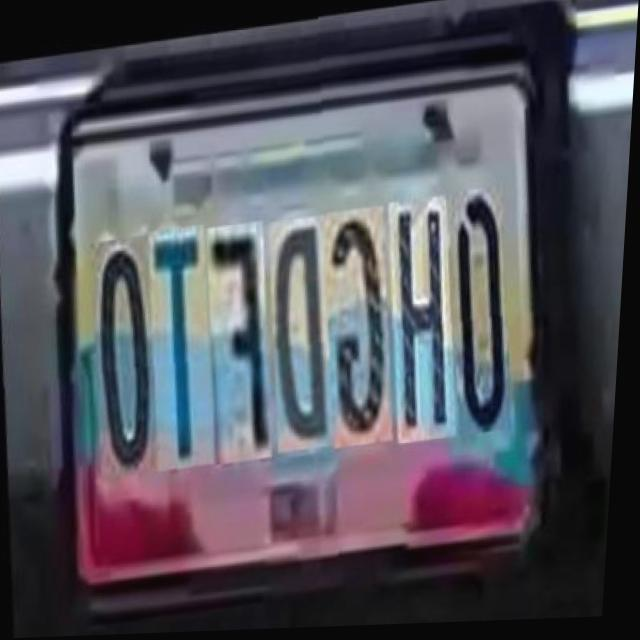0: (437, 187, 520, 437)
d: (258, 210, 341, 448)
f: (195, 214, 280, 458)
g: (311, 204, 400, 447)
h: (376, 195, 464, 444)
o: (80, 225, 166, 469)
t: (137, 216, 222, 463)
